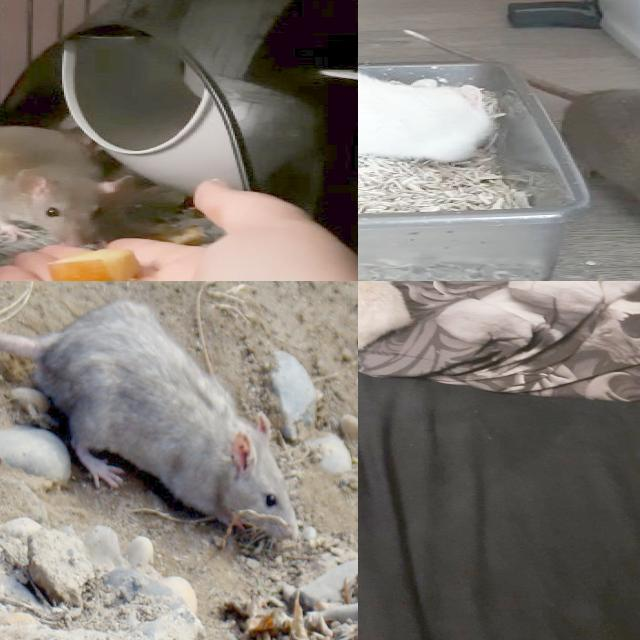rat: (46, 293, 300, 539), (358, 54, 490, 193), (0, 125, 128, 246), (562, 87, 640, 258), (358, 281, 410, 352)
